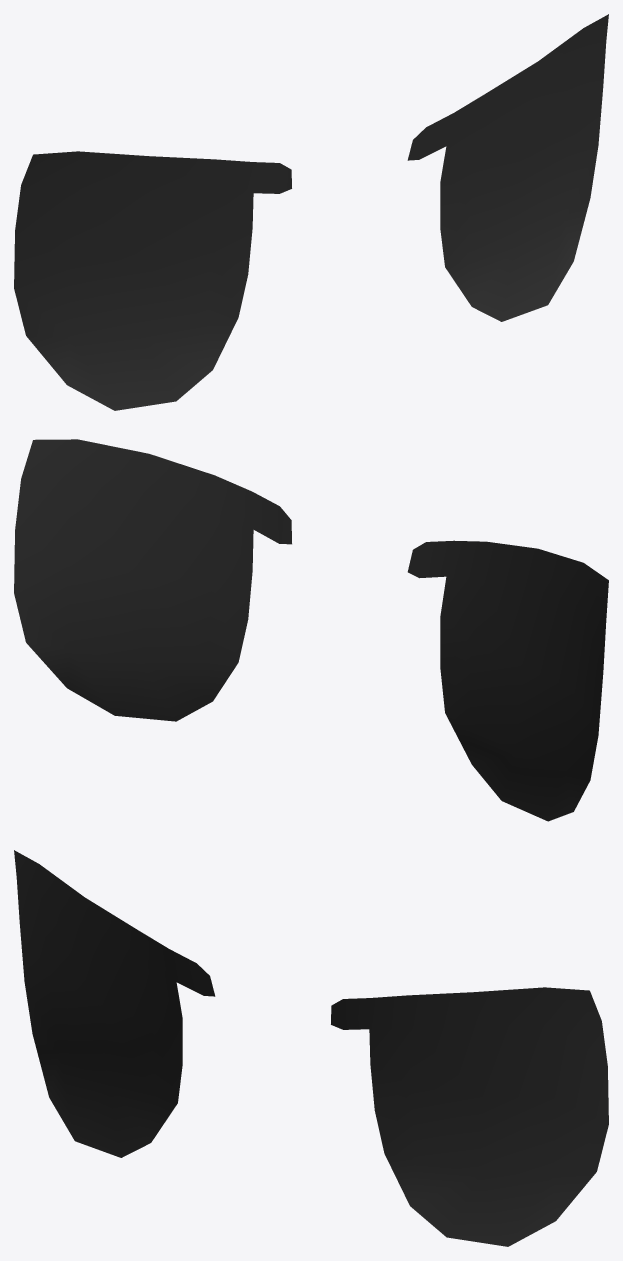
The model's file is Eye_6.fbx.
3 views of the same model, one above another, from view 1: azimuth 30°, elevation 25°; view 2: azimuth 150°, elevation 25°; view 3: azimuth 330°, elevation 25° (orthographic).
Parts seen in each view (by area): view 1: Eye_6; view 2: Eye_6; view 3: Eye_6.
Part boxes in pixels (x1,y1,x2,y2): Eye_6: (14, 14, 608, 410); Eye_6: (14, 439, 608, 821); Eye_6: (14, 850, 608, 1246).
Size of the model in its own units: 29.23 by 12.73 by 4.04.
